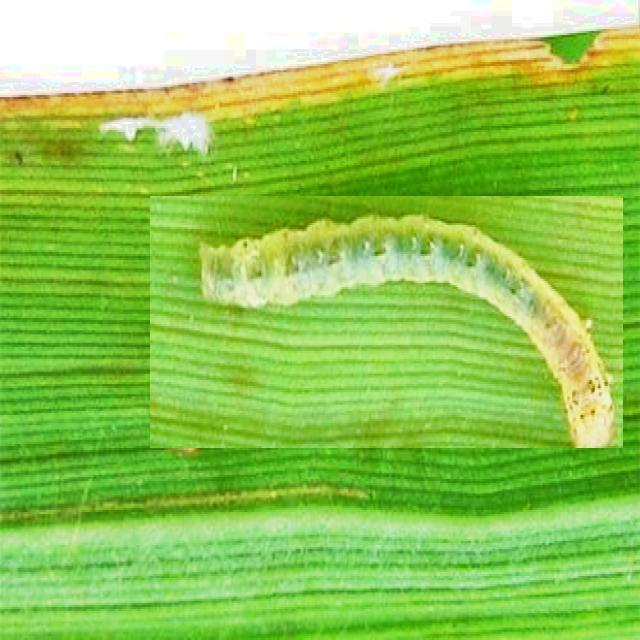leaf-folder: (150, 196, 623, 448)
